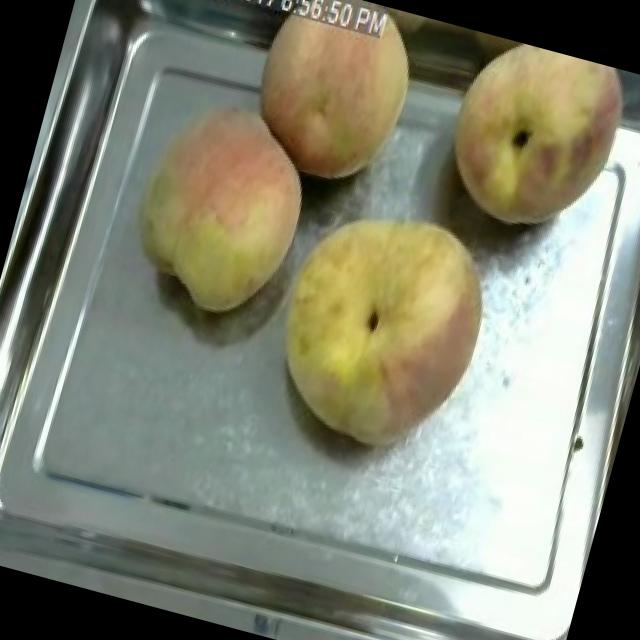Fruit: (245, 174, 520, 477), (104, 77, 333, 337), (419, 28, 640, 261), (230, 0, 437, 204)
